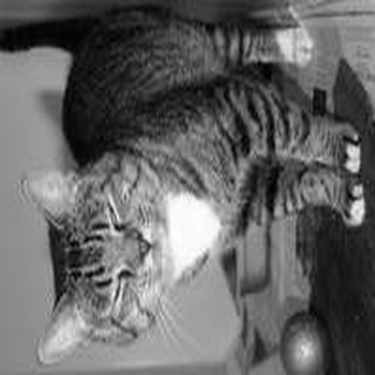cat: (11, 9, 367, 364)
